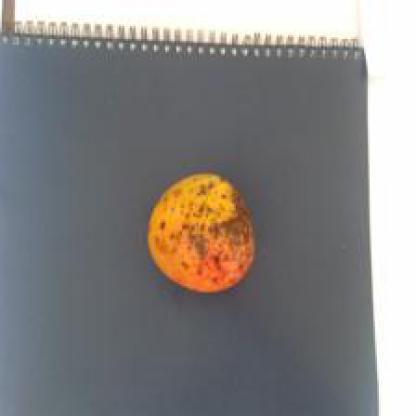mango_rotten: (145, 168, 256, 296)
